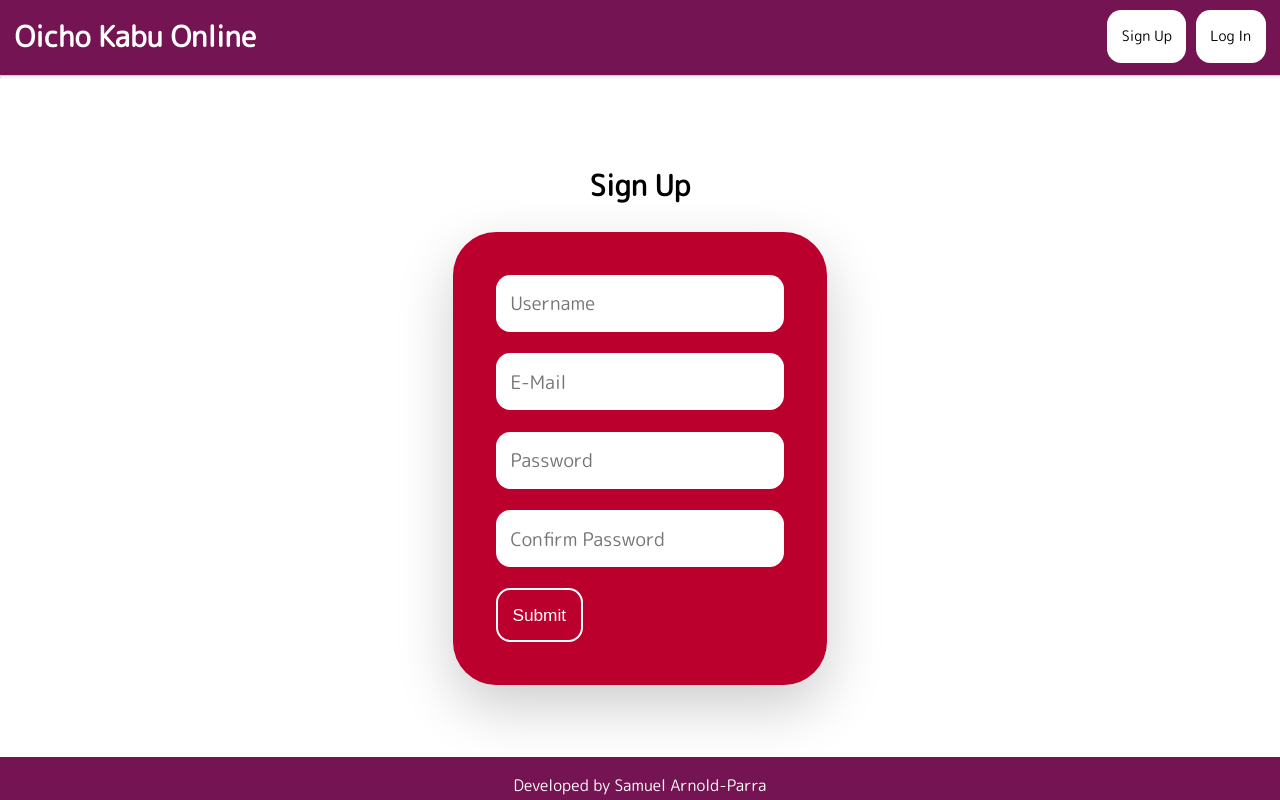
SignUp › redirects to lobby when successful
In the field with placeholder "Username": [640, 303] box [496, 275, 784, 332], type "test_user"
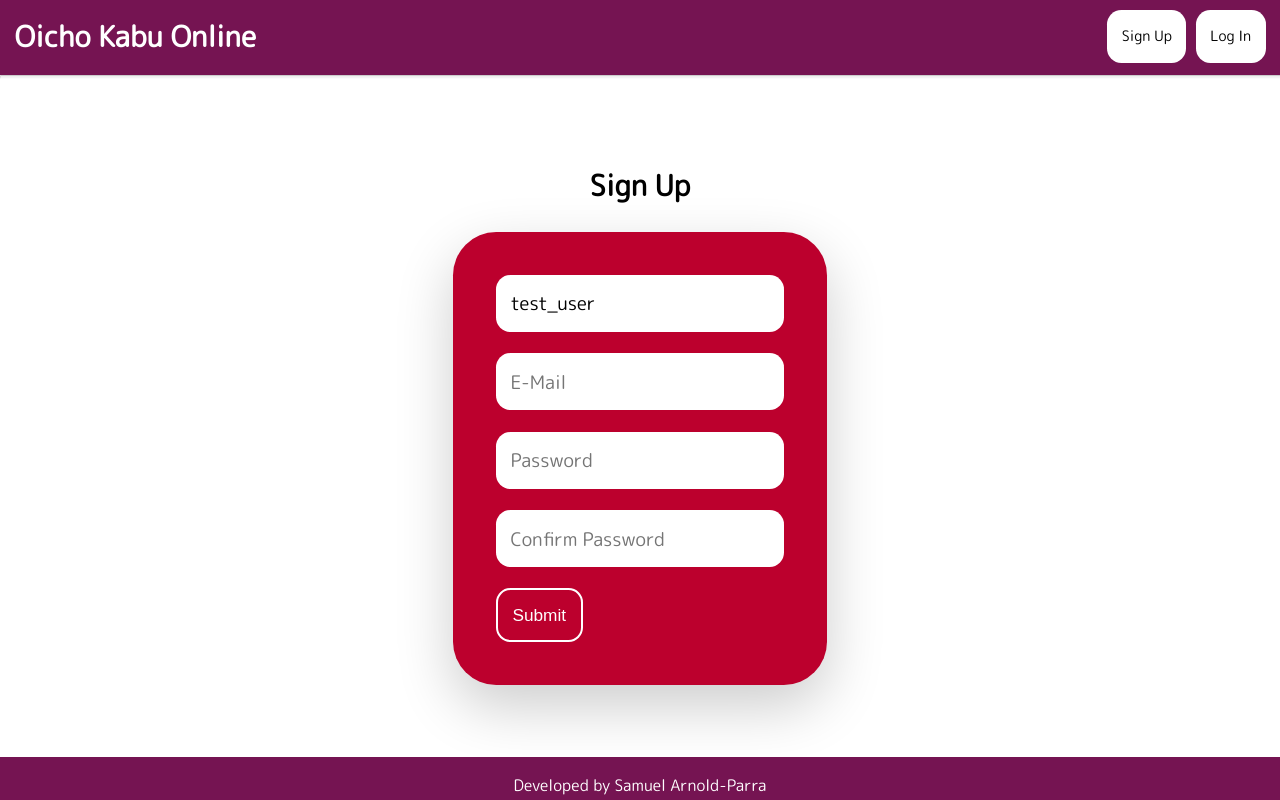
In the field with placeholder "E-Mail": [640, 382] box [496, 353, 784, 410], type "test@email.com"
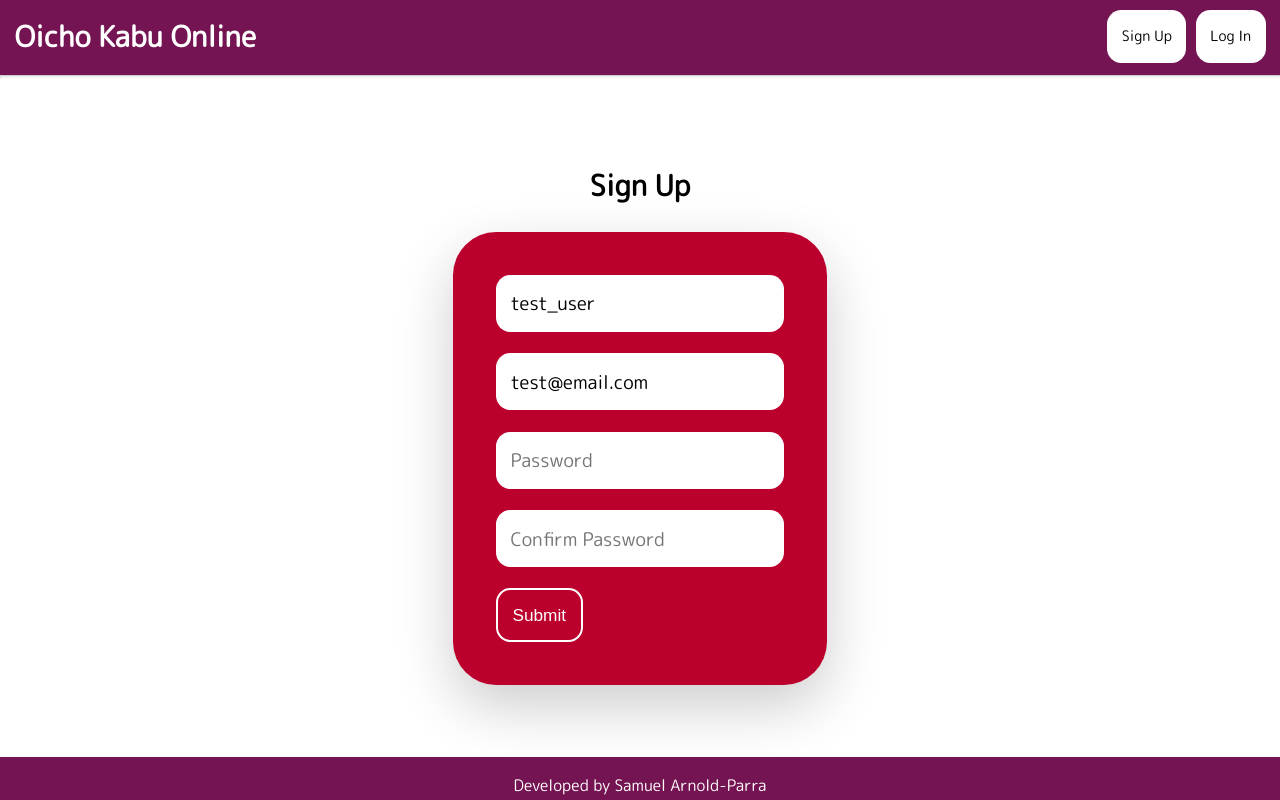
In the password field with placeholder "Password": [640, 460] box [496, 432, 784, 488], type "test_password"
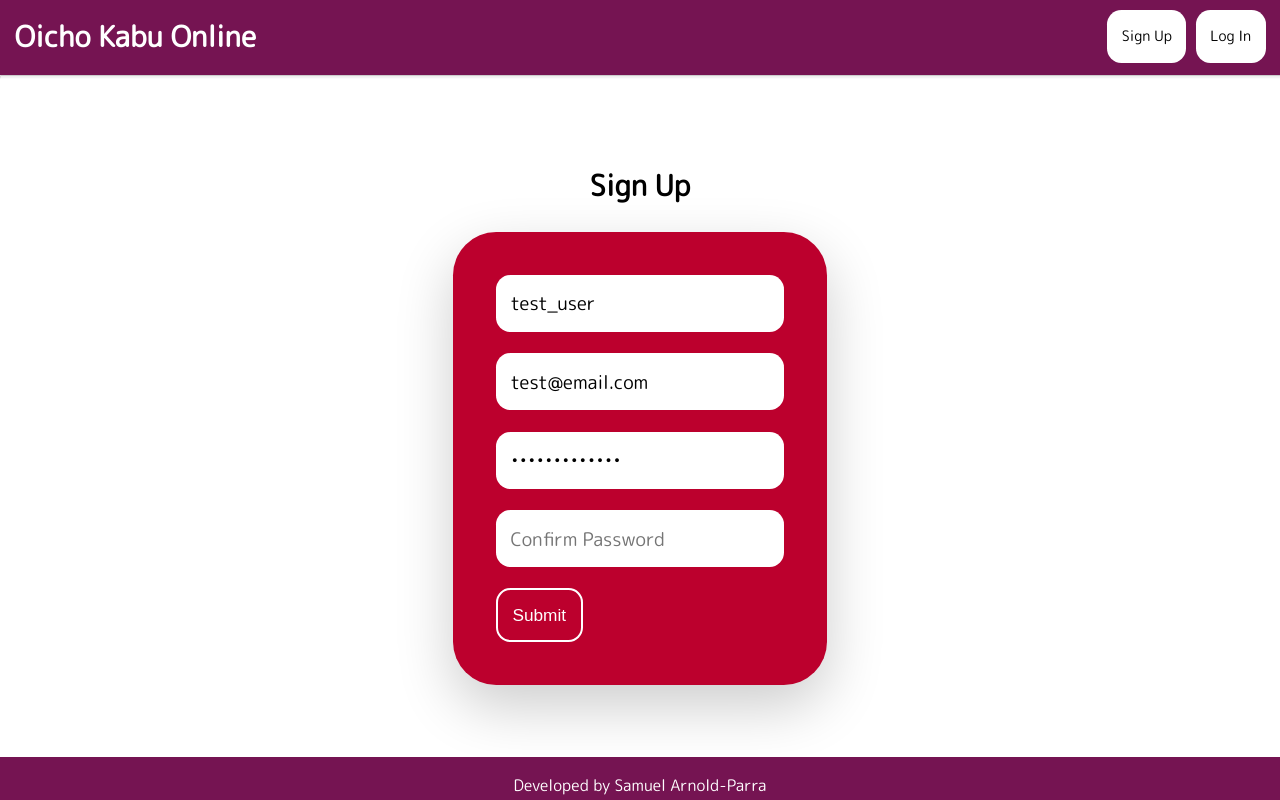
In the password field with placeholder "Confirm Password": [640, 538] box [496, 510, 784, 567], type "test_password"
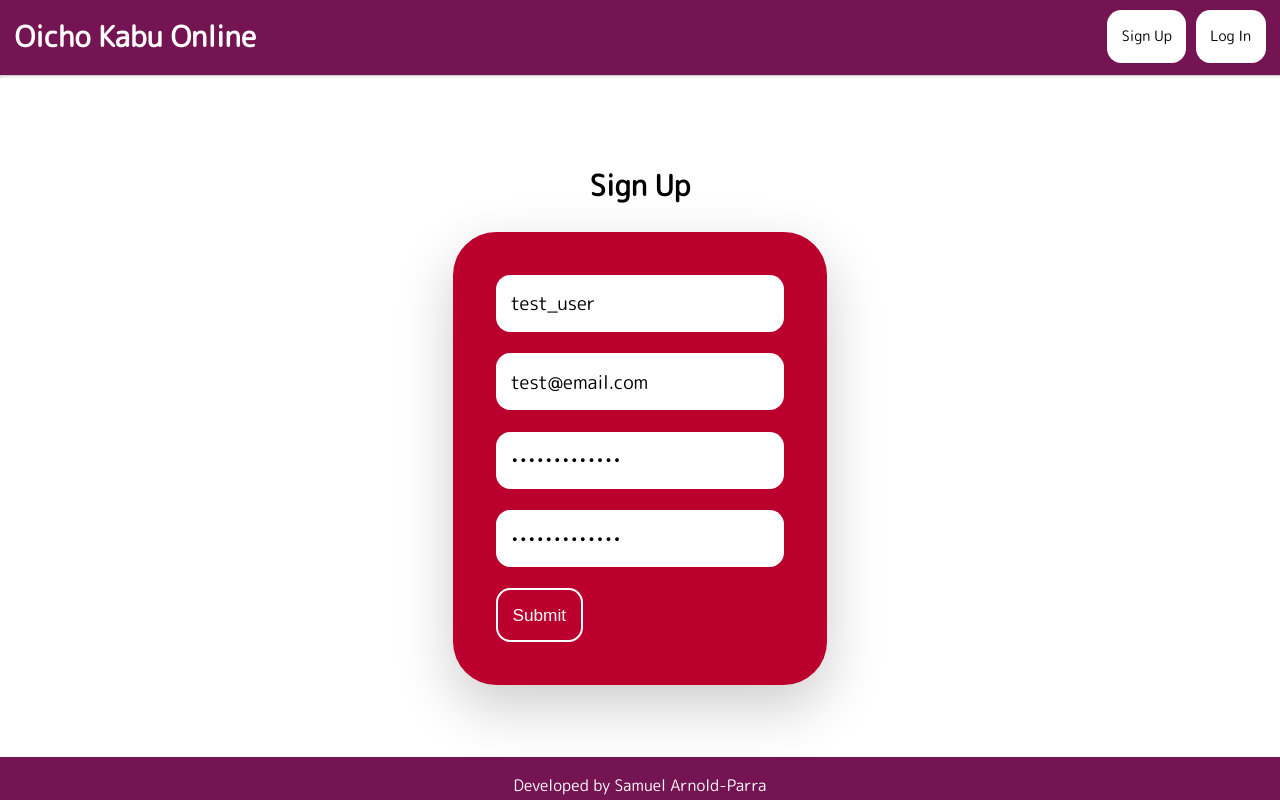
Click the button "Submit": [539, 615] box [496, 588, 582, 642]
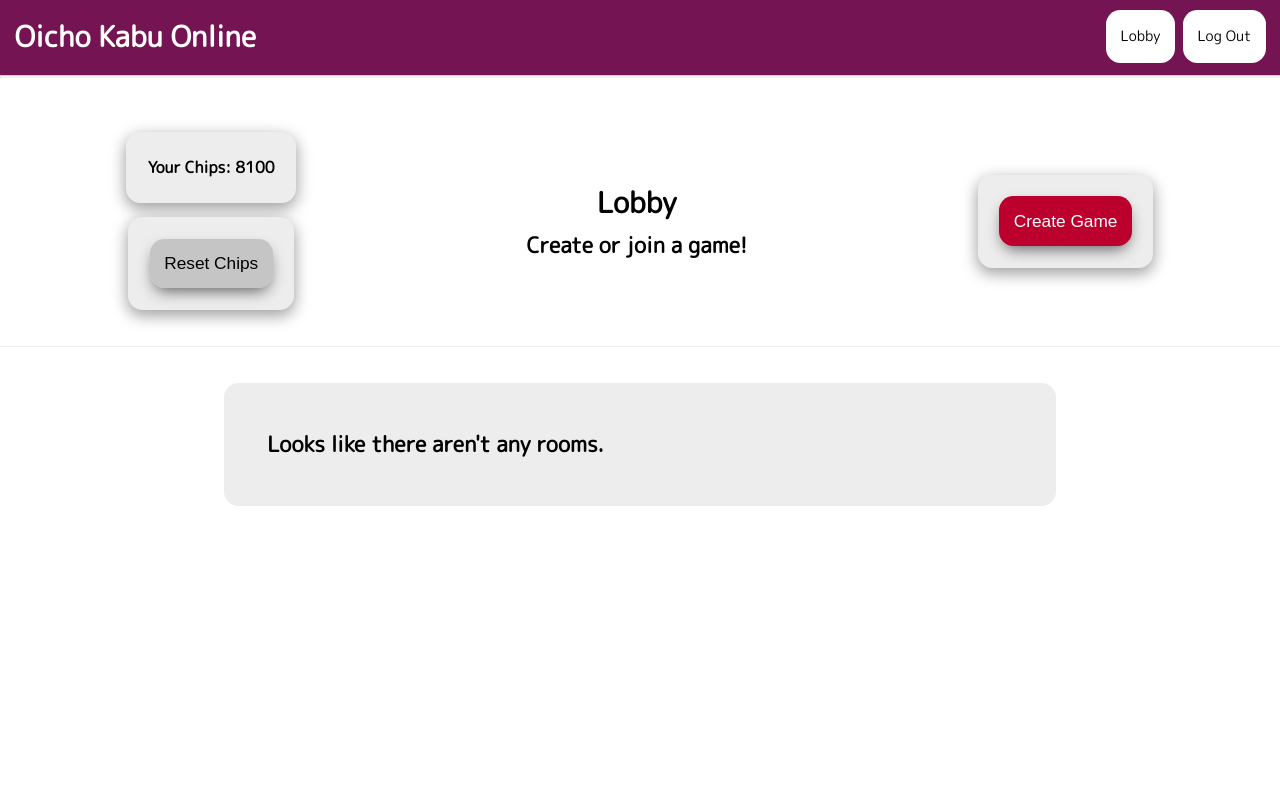
Check: the heading "Create or join a game!" is shown, box [527, 227, 747, 264]
